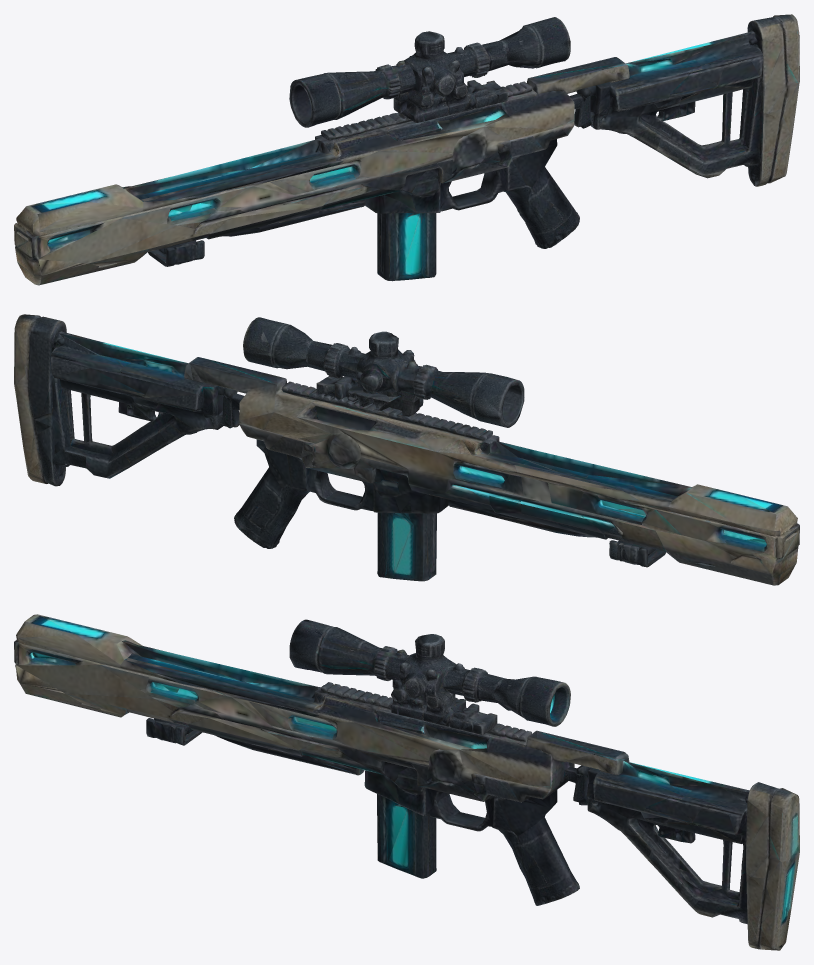
Rendered from w_railsniper.glb.
The picture shows the model from 3 angles, top to bottom: view 1: azimuth 30°, elevation 25°; view 2: azimuth 150°, elevation 25°; view 3: azimuth 330°, elevation 25°; orthographic projection.
Visible parts, largest first — view 1: mesh_0; view 2: mesh_0; view 3: mesh_0.
Part boxes in pixels (bbox=[...]): mesh_0: bbox=[14, 14, 799, 285]; mesh_0: bbox=[14, 314, 799, 585]; mesh_0: bbox=[14, 614, 799, 950].
Size of the model in its own units: 1.9 by 0.5602 by 0.1385.
Materials: 1 (1 with a texture image).
